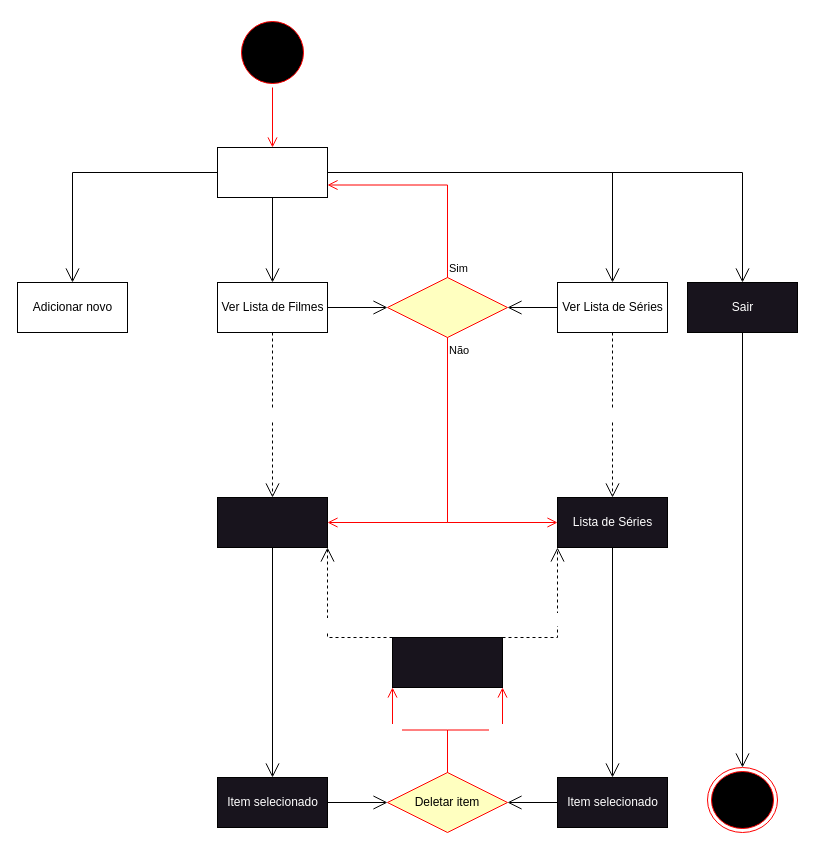
The diagram is 815 pixels wide and 850 high, and some of its shapes have lost their labels. The shapes that lost their labels are listed below. From the top down, each one's centre as x and y in pixels, then its label:
(x=272, y=172): Menu Principal
(x=447, y=307): Lista em Branco
(x=272, y=522): Lista de Filmes
(x=447, y=662): Atualizar lista
